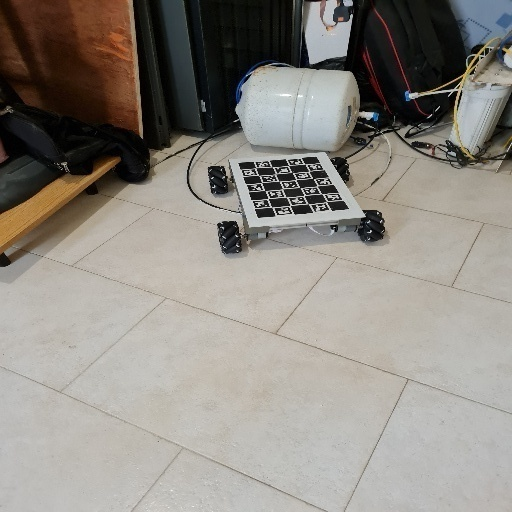Omniwheel: (207, 151, 386, 254)
